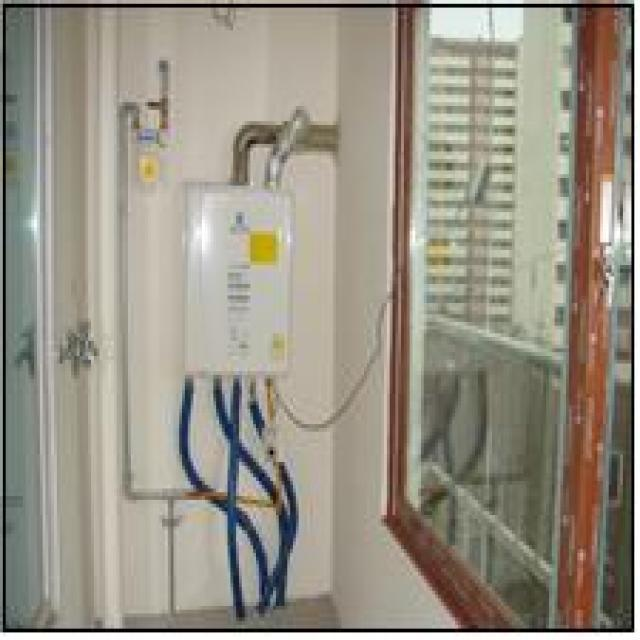Boiler: (164, 150, 308, 442)
